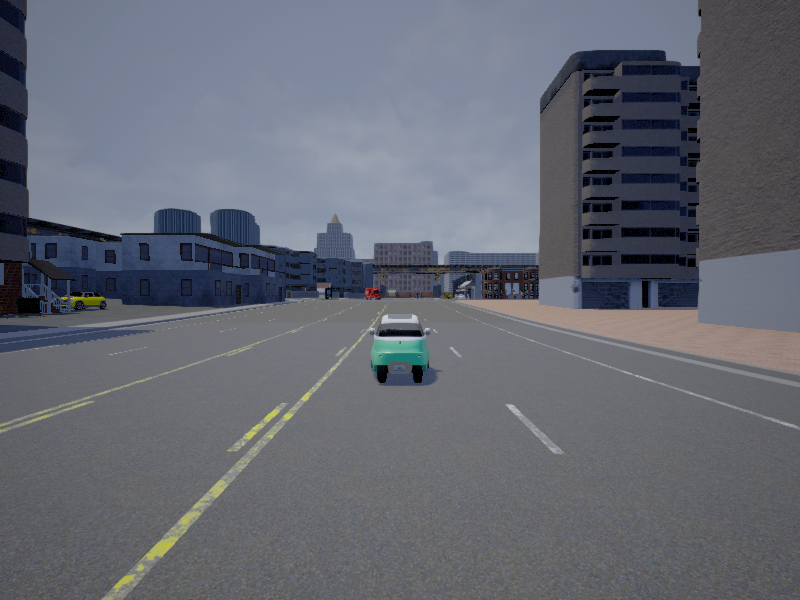Benign: (372, 315, 429, 384), (58, 292, 105, 309), (365, 288, 381, 300)
